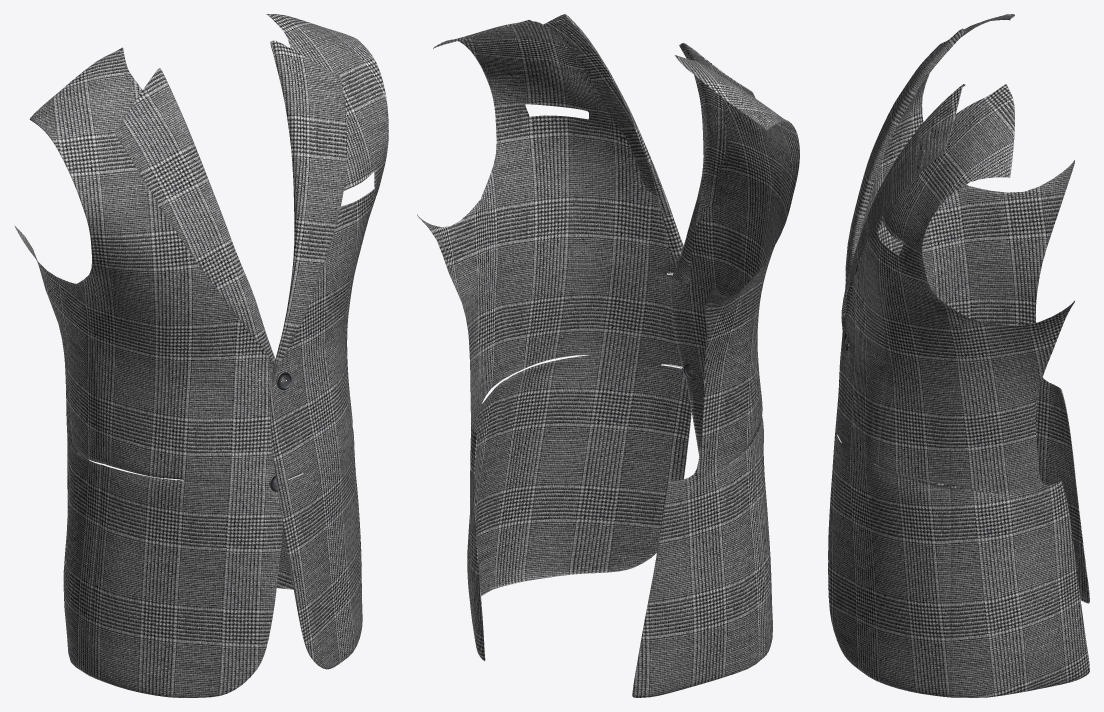
File: nochdoublebtn.glb
3 views of the same model, side by side, from view 1: azimuth 30°, elevation 25°; view 2: azimuth 150°, elevation 25°; view 3: azimuth 270°, elevation 25° (orthographic). The views are drawn at different scales.
Visible parts, largest first — view 1: Notch_Double_Button; view 2: Notch_Double_Button; view 3: Notch_Double_Button.
Part boxes in pixels (x1,y1,x2,y2): Notch_Double_Button: (14,14,388,697); Notch_Double_Button: (417,14,799,697); Notch_Double_Button: (828,14,1089,697).
Size of the model in its own units: 0.0585 by 0.1024 by 0.0411.
4 materials, 3 textured.
